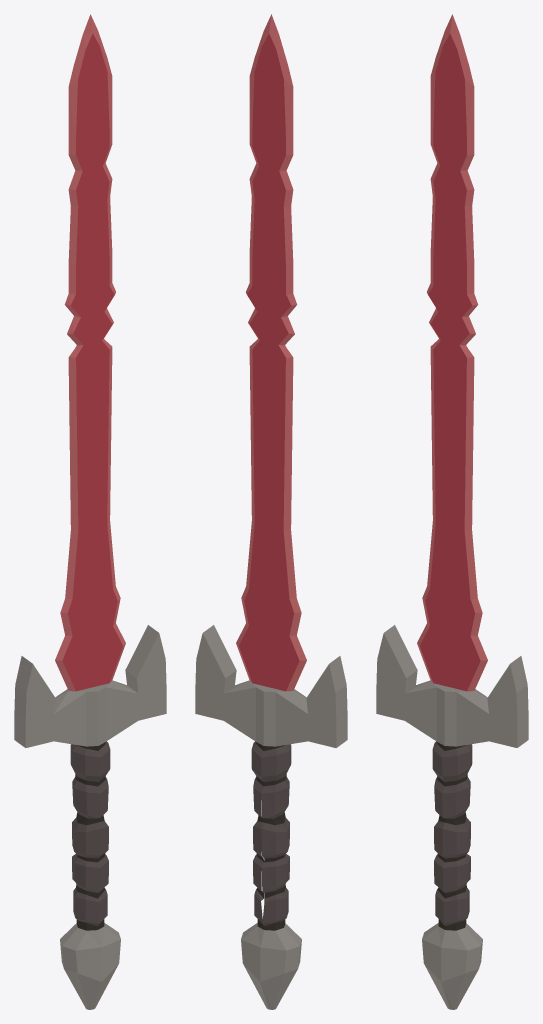
File: Claymore.glb
3 views of the same model, side by side, from view 1: azimuth 30°, elevation 25°; view 2: azimuth 150°, elevation 25°; view 3: azimuth 330°, elevation 25° (orthographic).
Visible parts, largest first — view 1: Claymore; view 2: Claymore; view 3: Claymore.
Part boxes in pixels (left/top/right/bottom): Claymore: left=14, top=14, right=166, bottom=1009; Claymore: left=195, top=14, right=347, bottom=1009; Claymore: left=376, top=14, right=528, bottom=1009.
Bounding box in the file's own units: 0.9781 × 6.59 × 0.2713.
1 material, 1 textured.
